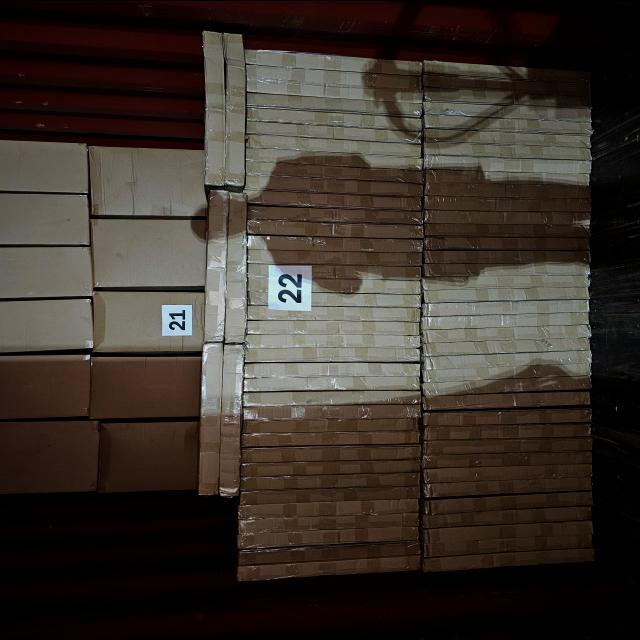Carton: (243, 265, 421, 359), (235, 458, 419, 546), (420, 60, 594, 126), (242, 392, 430, 446), (423, 348, 598, 406), (418, 242, 588, 297), (90, 140, 208, 214), (92, 218, 210, 288), (0, 419, 99, 493), (236, 504, 428, 542), (98, 420, 200, 490), (91, 356, 203, 419), (94, 291, 206, 353), (421, 440, 595, 478), (422, 459, 596, 497), (234, 543, 430, 576), (0, 354, 90, 420), (422, 492, 595, 524), (422, 524, 600, 555), (246, 358, 426, 388), (422, 408, 594, 438), (422, 174, 593, 203), (0, 138, 88, 194), (0, 300, 91, 353), (422, 208, 592, 236), (0, 245, 90, 297), (247, 150, 427, 176), (0, 190, 89, 242), (248, 206, 428, 230), (422, 428, 596, 451), (247, 178, 427, 200), (247, 111, 433, 131), (248, 216, 429, 236), (248, 188, 428, 208), (243, 442, 429, 460), (422, 192, 592, 210)
